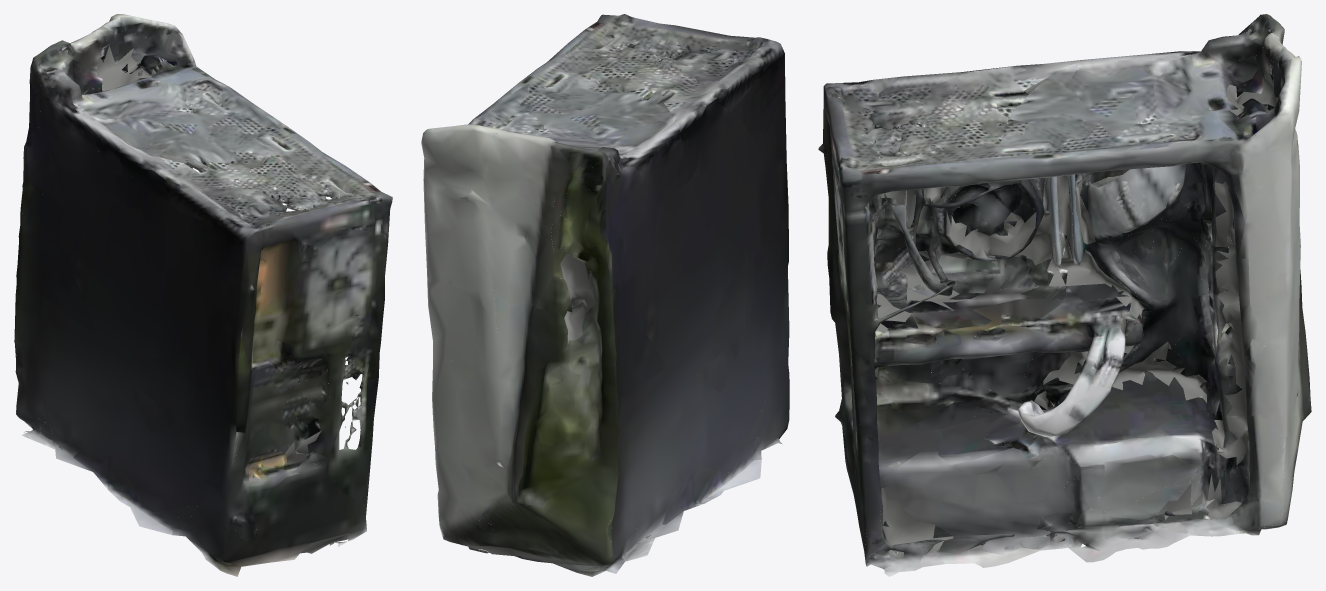
Rendered from prorm2.glb.
The picture shows the model from 3 angles, left to right: view 1: azimuth 30°, elevation 25°; view 2: azimuth 150°, elevation 25°; view 3: azimuth 270°, elevation 25°; orthographic projection. The views are drawn at different scales.
Visible parts, largest first — view 1: Mesh_0_Material_0, Mesh_0_Material_1, Mesh_0_Material_2, Mesh_0_Material_3, Mesh_0_Material_5, Mesh_0_Material_4, Mesh_0_Material_6; view 2: Mesh_0_Material_0, Mesh_0_Material_1, Mesh_0_Material_3, Mesh_0_Material_2, Mesh_0_Material_4; view 3: Mesh_0_Material_0, Mesh_0_Material_1, Mesh_0_Material_2, Mesh_0_Material_3, Mesh_0_Material_5, Mesh_0_Material_4, Mesh_0_Material_6.
Boxes of the visible parts, box(x1,y1,x2,y2) form: Mesh_0_Material_0: box(14, 14, 391, 576); Mesh_0_Material_1: box(22, 17, 392, 569); Mesh_0_Material_2: box(14, 31, 363, 570); Mesh_0_Material_3: box(16, 43, 392, 523); Mesh_0_Material_5: box(30, 17, 362, 540); Mesh_0_Material_4: box(21, 37, 363, 449); Mesh_0_Material_6: box(15, 26, 362, 539); Mesh_0_Material_0: box(421, 14, 789, 576); Mesh_0_Material_1: box(445, 15, 782, 576); Mesh_0_Material_3: box(438, 40, 765, 556); Mesh_0_Material_2: box(439, 37, 786, 561); Mesh_0_Material_4: box(435, 35, 683, 561); Mesh_0_Material_0: box(823, 14, 1311, 567); Mesh_0_Material_1: box(827, 14, 1296, 576); Mesh_0_Material_2: box(841, 26, 1287, 570); Mesh_0_Material_3: box(833, 31, 1297, 568); Mesh_0_Material_5: box(818, 46, 1291, 550); Mesh_0_Material_4: box(819, 35, 1287, 559); Mesh_0_Material_6: box(840, 35, 1281, 542).
Bounding box in the file's own units: 1.36 × 2.57 × 2.38.
8 materials, 8 textured.
